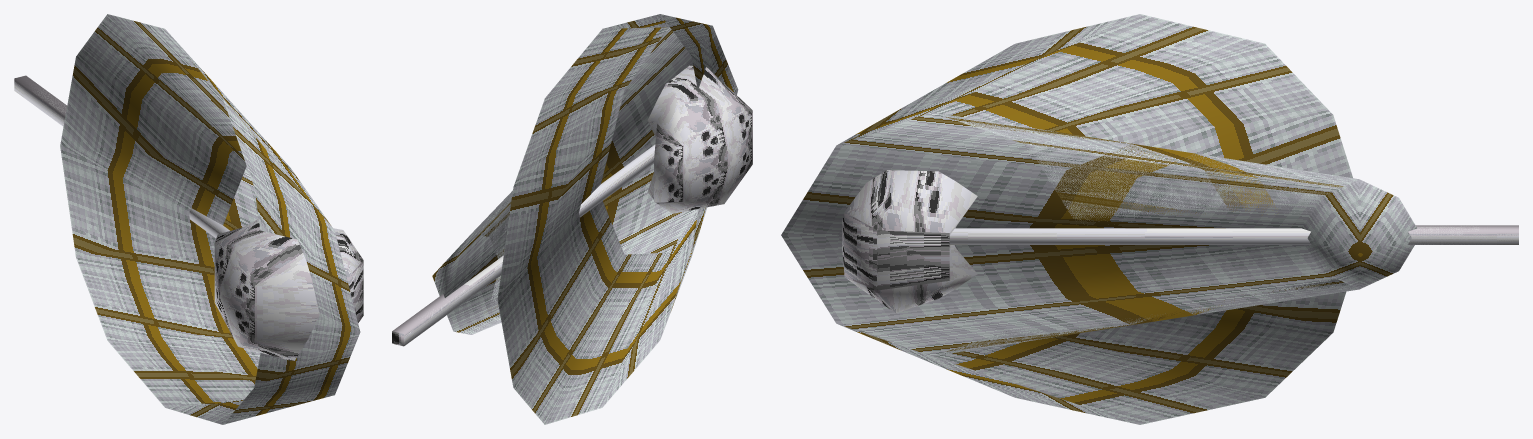
The model's file is 06_03_stick.gltf.
3 views of the same model, side by side, from view 1: azimuth 30°, elevation 25°; view 2: azimuth 150°, elevation 25°; view 3: azimuth 270°, elevation 25° (orthographic). The views are drawn at different scales.
Visible parts, largest first — view 1: 06_03_stick; view 2: 06_03_stick; view 3: 06_03_stick.
Boxes of the visible parts, box(x1,y1,x2,y2) form: 06_03_stick: box(14, 14, 363, 424); 06_03_stick: box(392, 14, 752, 424); 06_03_stick: box(781, 14, 1518, 424).
Size of the model in its own units: 0.2446 by 0.761 by 1.24.
Materials: 2 (2 with a texture image).
